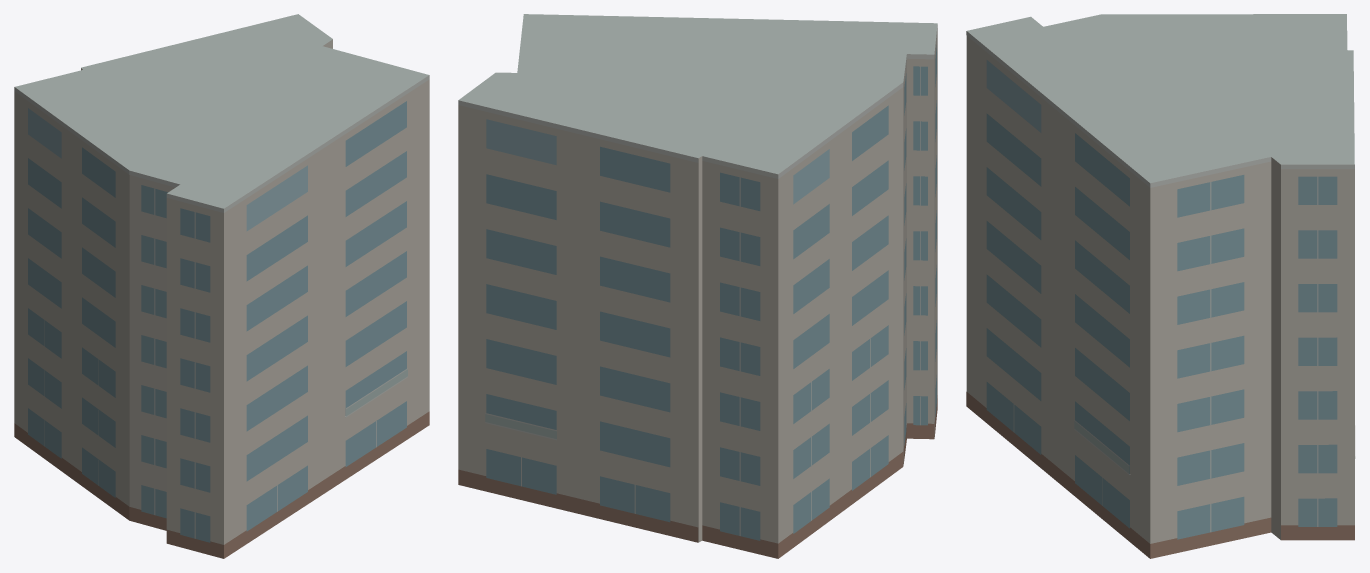
Rendered from survey-upis-33030527.glb.
The picture shows the model from 3 angles, left to right: view 1: azimuth 30°, elevation 25°; view 2: azimuth 150°, elevation 25°; view 3: azimuth 270°, elevation 25°; orthographic projection. The views are drawn at different scales.
Visible parts, largest first — view 1: survey-upis-33030527.tmp; view 2: survey-upis-33030527.tmp; view 3: survey-upis-33030527.tmp.
Part boxes in pixels (x1,y1,x2,y2): survey-upis-33030527.tmp: (14, 14, 429, 558); survey-upis-33030527.tmp: (458, 14, 937, 558); survey-upis-33030527.tmp: (966, 14, 1355, 558).
Bounding box in the file's own units: 19.25 × 19.9 × 18.68.
